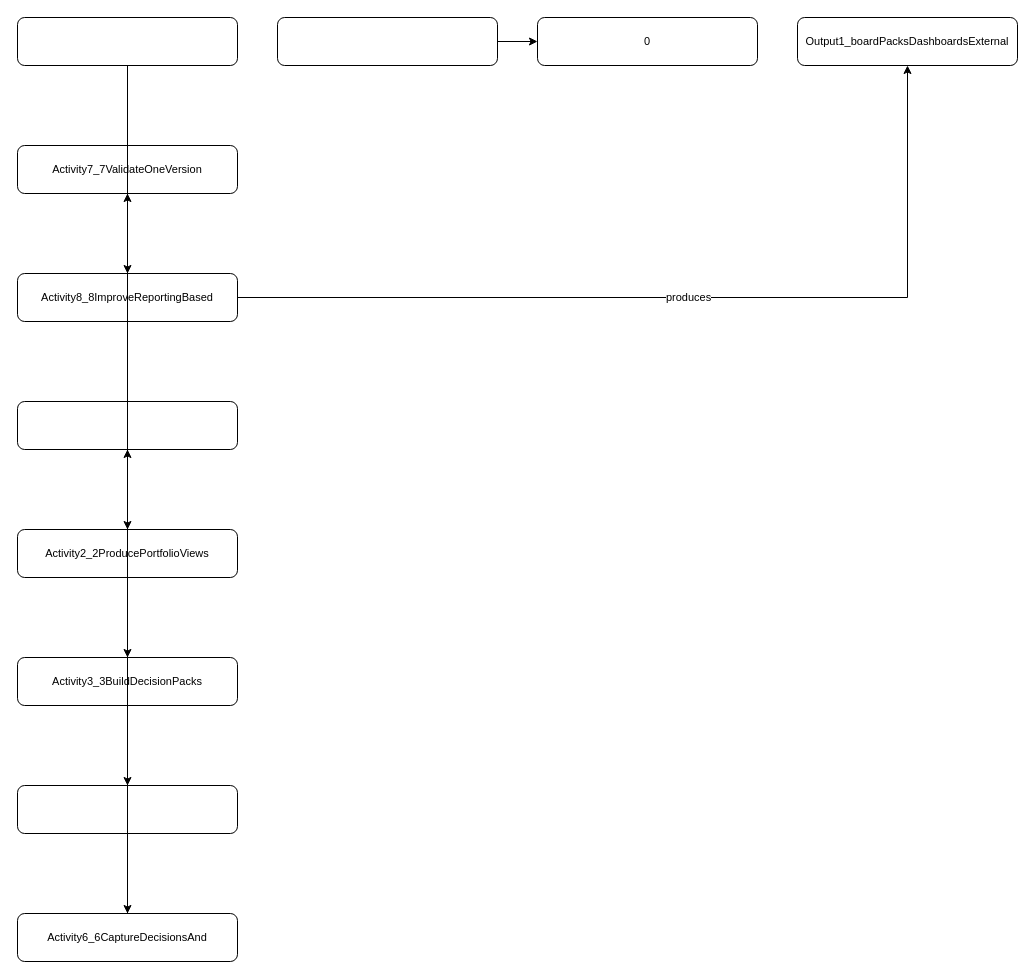
Image size: 1035x979. Some labels were removed from this diagram. The shapes that lost their labels are listed below. From the top down, each one's box as (x1, y1, x2, y2) in pixels, then its label:
(16, 16, 238, 66): Activity1_1StandardiseNarrativeAnd
(276, 16, 498, 66): Input1_portfolioDataVs02
(16, 400, 238, 450): Activity4_4GenerateExternalAssurance
(16, 784, 238, 834): Activity5_5ProvideTraceabilityLinks
